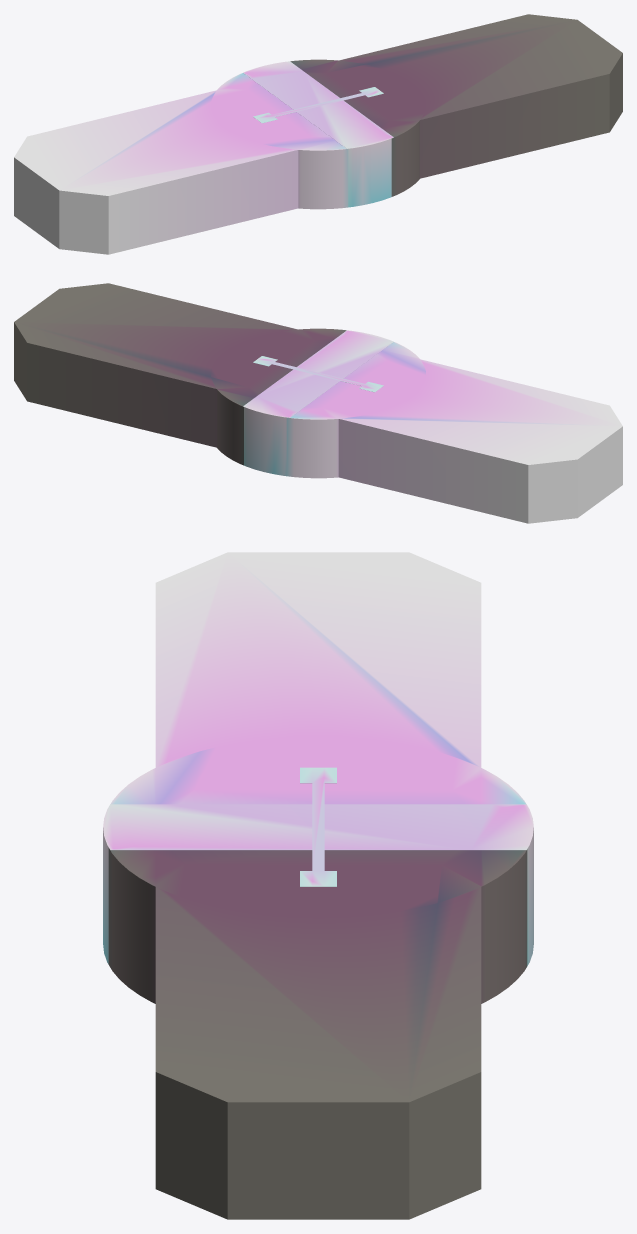
The picture shows the model from 3 angles, top to bottom: view 1: azimuth 30°, elevation 25°; view 2: azimuth 150°, elevation 25°; view 3: azimuth 270°, elevation 25°; orthographic projection. The views are drawn at different scales.
Visible parts, largest first — view 1: arms.001, arms, band, strip; view 2: arms.001, arms, band, strip; view 3: arms, arms.001, band, strip.
Boxes of the visible parts, <box> form: arms.001: <box>14,73,348,254</box>; arms: <box>290,14,622,196</box>; band: <box>243,61,393,207</box>; strip: <box>253,87,383,123</box>; arms.001: <box>286,342,622,523</box>; arms: <box>14,283,346,465</box>; band: <box>243,330,393,476</box>; strip: <box>253,356,383,392</box>; arms: <box>108,848,527,1219</box>; arms.001: <box>110,552,526,804</box>; band: <box>103,804,533,965</box>; strip: <box>300,767,336,886</box>.
Size of the model in its own units: 30 by 2.99 by 9.93.
